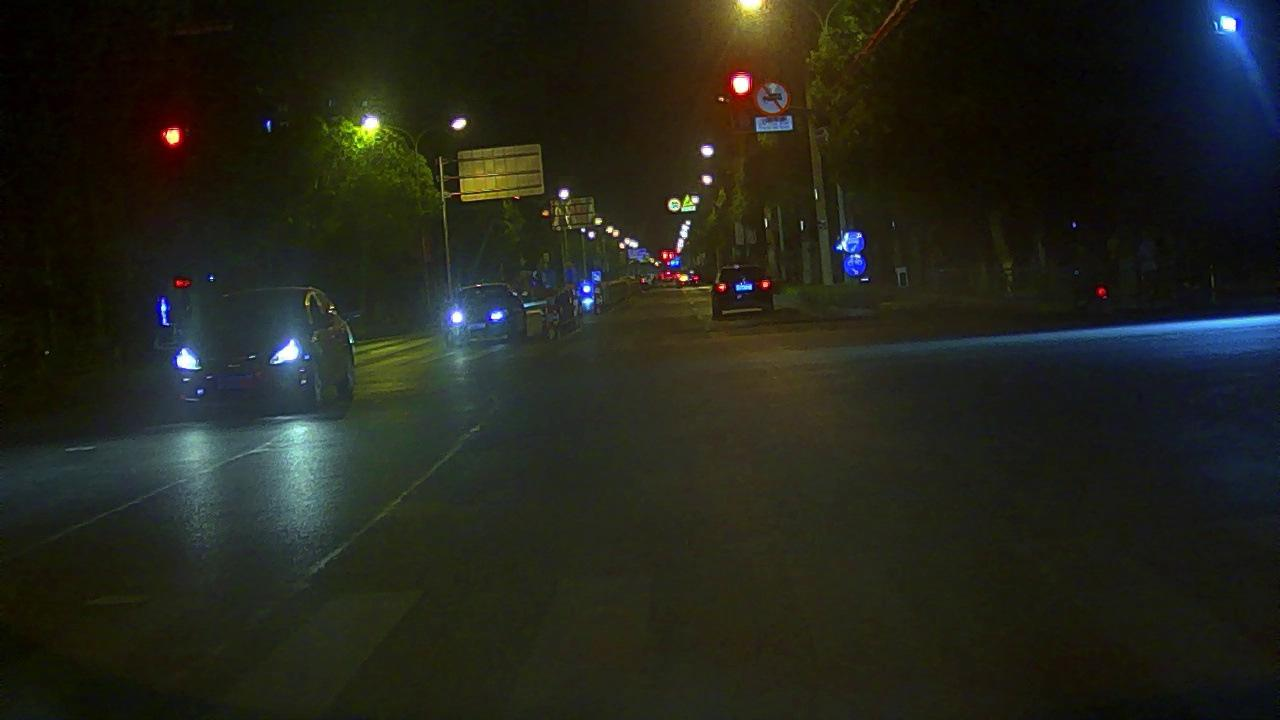traffic_light: (724, 68, 757, 102), (156, 120, 186, 152)
